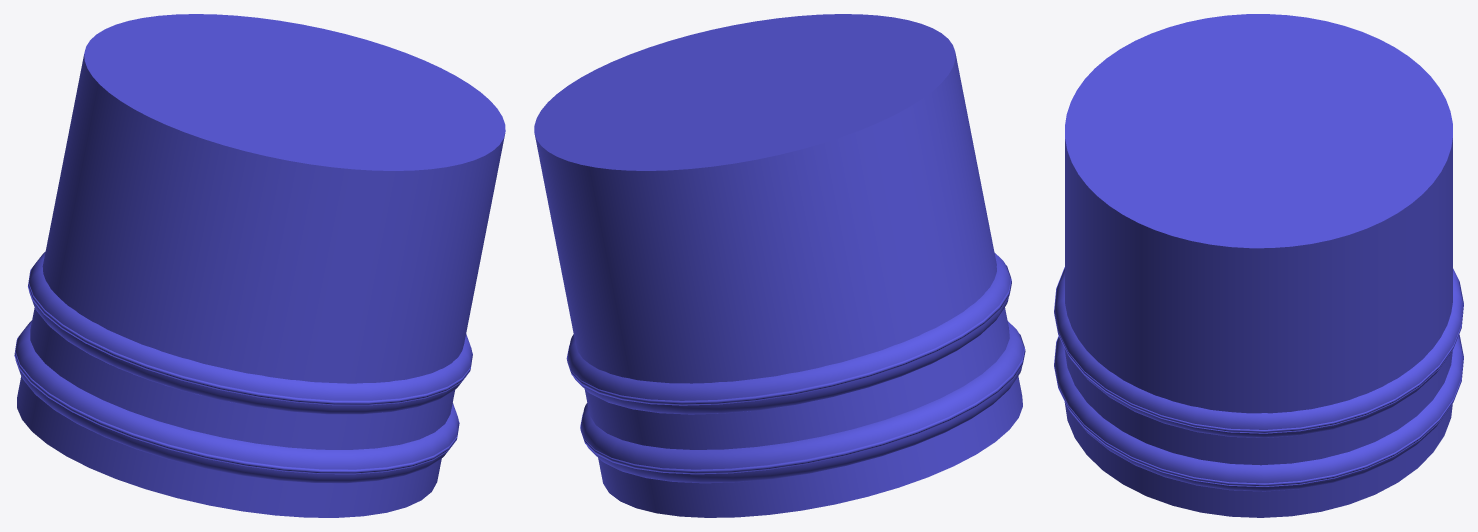
File: bombilla88.obj
The picture shows the model from 3 angles, left to right: view 1: azimuth 30°, elevation 25°; view 2: azimuth 150°, elevation 25°; view 3: azimuth 270°, elevation 25°; orthographic projection. The views are drawn at different scales.
Visible parts, largest first — view 1: Cylinder001, Cylinder004, Cylinder003, Cylinder006, Cylinder002; view 2: Cylinder001, Cylinder004, Cylinder003, Cylinder006, Cylinder002; view 3: Cylinder001, Cylinder004, Cylinder002, Cylinder003, Cylinder006.
Boxes of the visible parts, x1=… form: Cylinder001: x1=42, y1=14, x2=505, y2=383; Cylinder004: x1=14, y1=320, x2=459, y2=483; Cylinder003: x1=30, y1=308, x2=454, y2=449; Cylinder006: x1=17, y1=376, x2=441, y2=517; Cylinder002: x1=28, y1=251, x2=472, y2=414; Cylinder001: x1=534, y1=14, x2=996, y2=383; Cylinder004: x1=580, y1=321, x2=1025, y2=483; Cylinder003: x1=584, y1=307, x2=1009, y2=449; Cylinder006: x1=598, y1=376, x2=1022, y2=517; Cylinder002: x1=566, y1=253, x2=1011, y2=414; Cylinder001: x1=1065, y1=14, x2=1452, y2=413; Cylinder004: x1=1054, y1=334, x2=1463, y2=491; Cylinder002: x1=1054, y1=267, x2=1463, y2=437; Cylinder003: x1=1064, y1=348, x2=1452, y2=465; Cylinder006: x1=1064, y1=402, x2=1452, y2=517.
Size of the model in its own units: 79.5 by 72.59 by 72.21.
